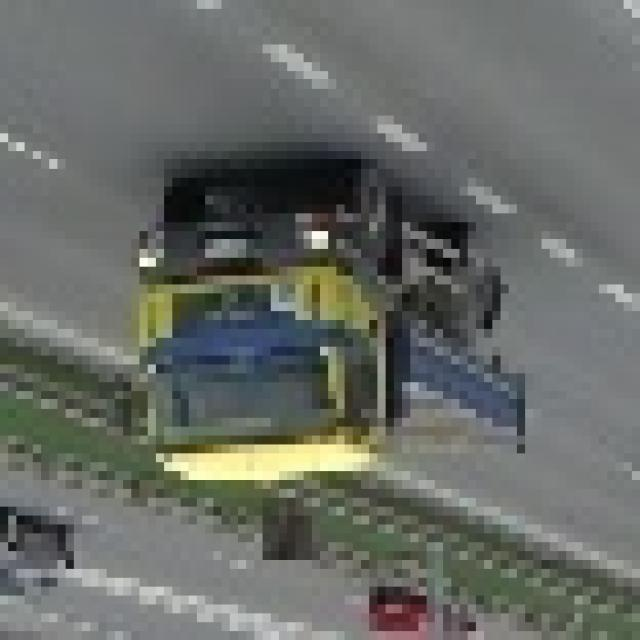truck: (106, 169, 518, 507)
